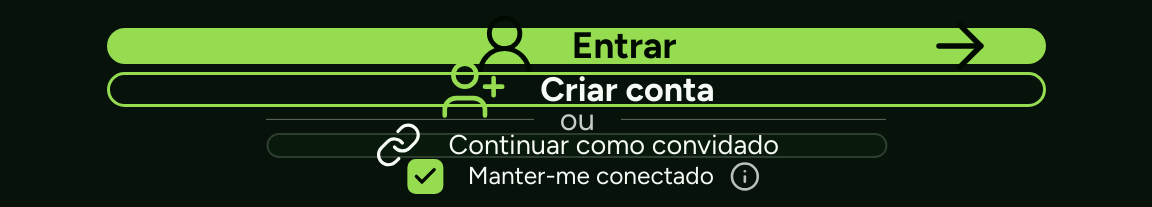
Test case: WelcomeActions › o ícone (i) mostra e esconde a dica de Manter-me conectado
Click the button named "Saiba mais sobre Manter-me conectado": [745, 176] box [729,161,760,192]
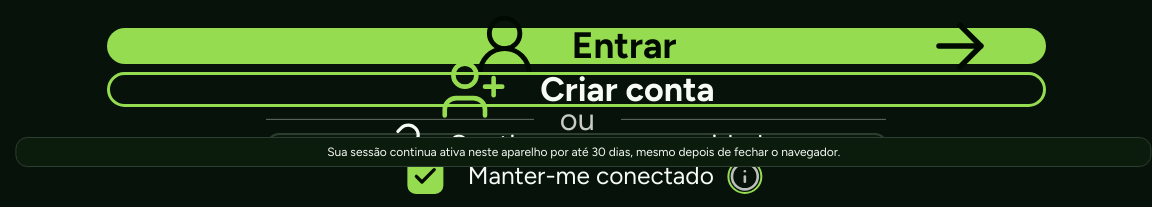
Check: the button named "Saiba mais sobre Manter-me conectado" is expanded
Check: the text "Sua sessão continua ativa neste aparelho por até 30 dias, mesmo depois de fechar o navegador." is shown, box [327,145,840,159]
Click the button named "Saiba mais sobre Manter-me conectado": [745, 176] box [729,161,760,192]
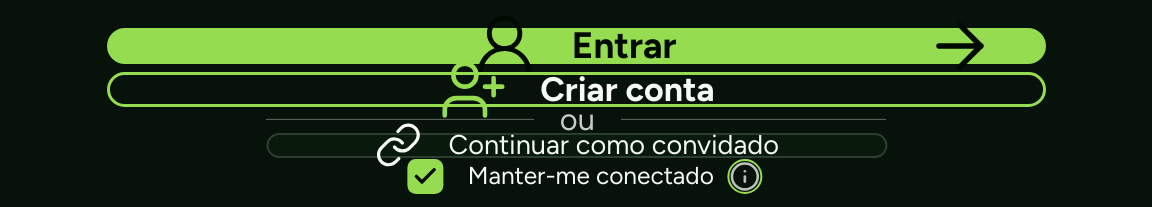
Check: the button named "Saiba mais sobre Manter-me conectado" is collapsed, box [729,161,760,192]
Check: the text "Sua sessão continua ativa" is gone
